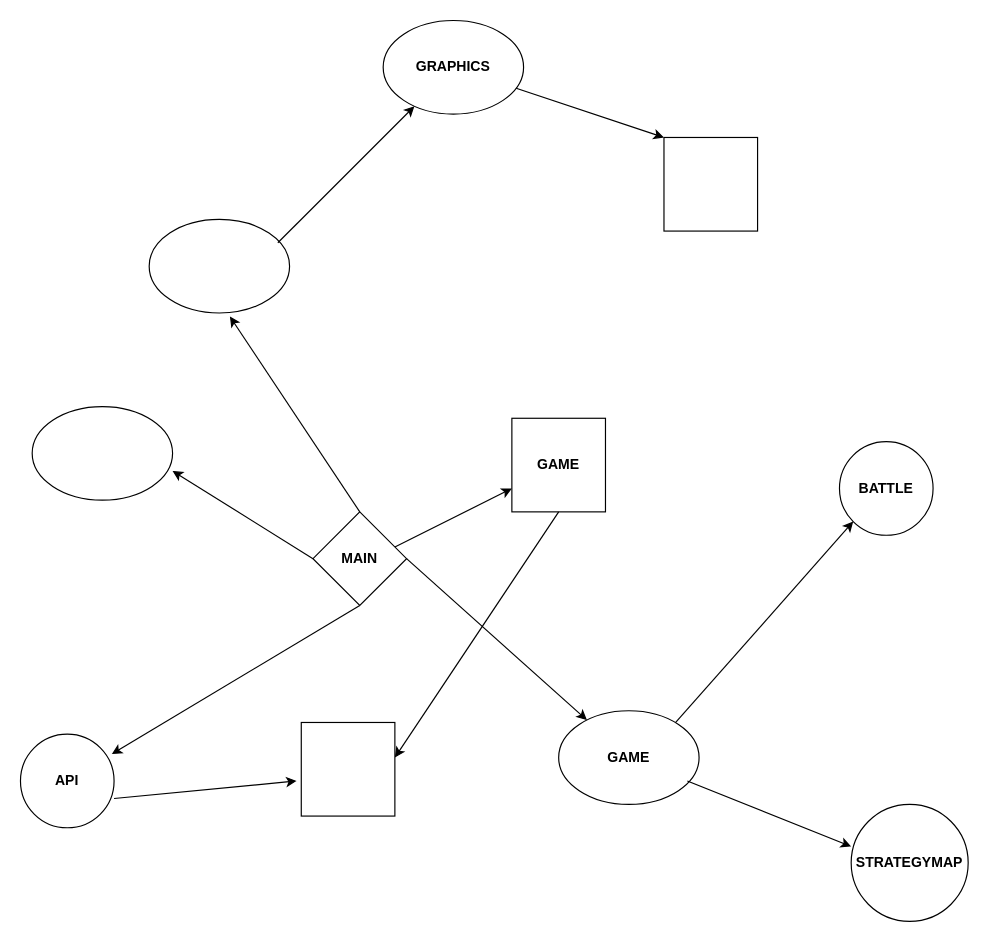
Some shapes in this 989 by 942 pixel diagram are drawn without their labels. The centre of each missing label's shape, as x and y in pixels:
"BARBARIACONFIG" belongs at point 102,452.
"ENGINE" belongs at point 219,265.
"LOADER" belongs at point 347,768.
"OBJECT" belongs at point 710,183.
